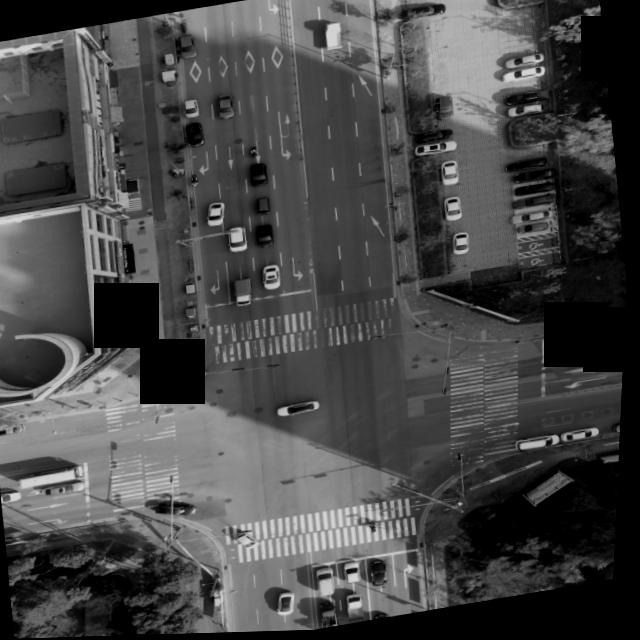car: (160, 499, 202, 520), (176, 369, 211, 393), (522, 436, 567, 454), (279, 403, 324, 420), (415, 144, 457, 162), (515, 198, 559, 215), (504, 91, 548, 108), (505, 160, 549, 177), (505, 70, 548, 87), (514, 184, 557, 201), (320, 568, 343, 599), (512, 169, 553, 186), (47, 482, 90, 498), (398, 7, 440, 23), (515, 212, 556, 228), (503, 56, 543, 72), (417, 131, 455, 147), (228, 227, 250, 254), (433, 96, 455, 123), (440, 162, 461, 189), (373, 562, 394, 589), (567, 430, 604, 445), (177, 33, 197, 60), (265, 267, 286, 292), (209, 202, 230, 227), (443, 199, 464, 224), (217, 95, 237, 121), (186, 123, 206, 149), (282, 591, 303, 615), (508, 104, 544, 118), (518, 224, 554, 238), (250, 163, 270, 188), (452, 235, 473, 258), (258, 225, 278, 249), (240, 531, 264, 550), (349, 563, 368, 586), (0, 425, 28, 438), (258, 197, 274, 218), (184, 100, 200, 120), (4, 491, 27, 503), (377, 615, 395, 623), (616, 424, 625, 438)
small_bus: (21, 467, 87, 492)
small_truck: (234, 276, 257, 307), (321, 22, 344, 52), (350, 596, 372, 624), (323, 604, 345, 631)
